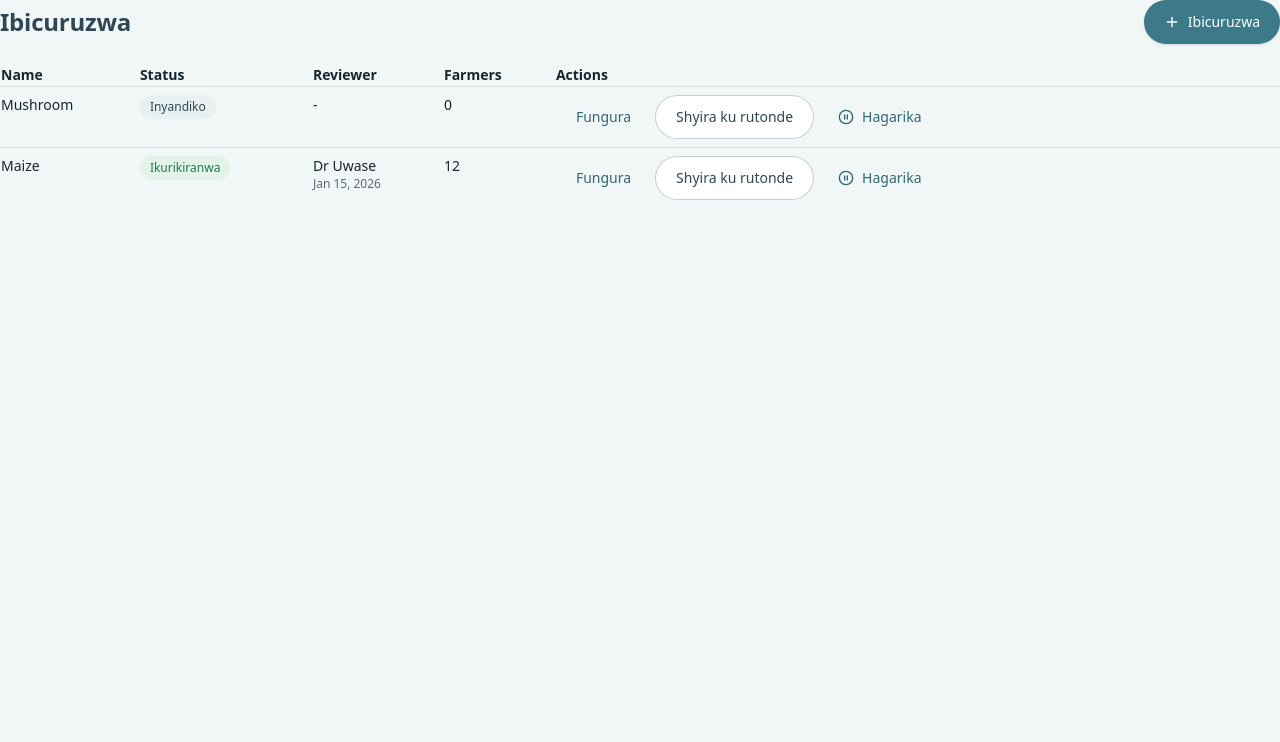
Scenario: product editor › offers every field the trackable check asks for
Expected: the column heading "Mushroom" is shown, [0, 86, 139, 148]
Click the button "Fungura" in the row of "Mushroom": (604, 117) [556, 95, 651, 139]
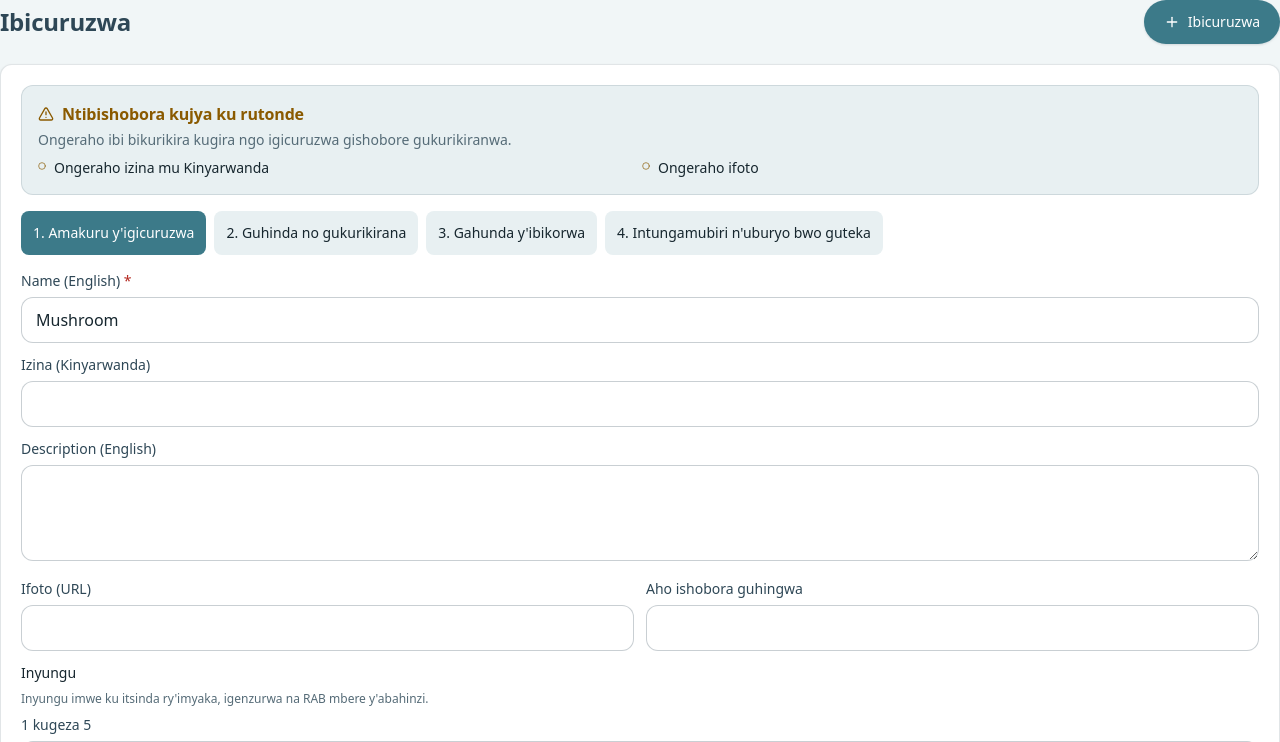
# Nutrition and recipes live on their own step.
Click the button "4. Intungamubiri n'uburyo bwo guteka": (744, 233) [605, 211, 883, 255]
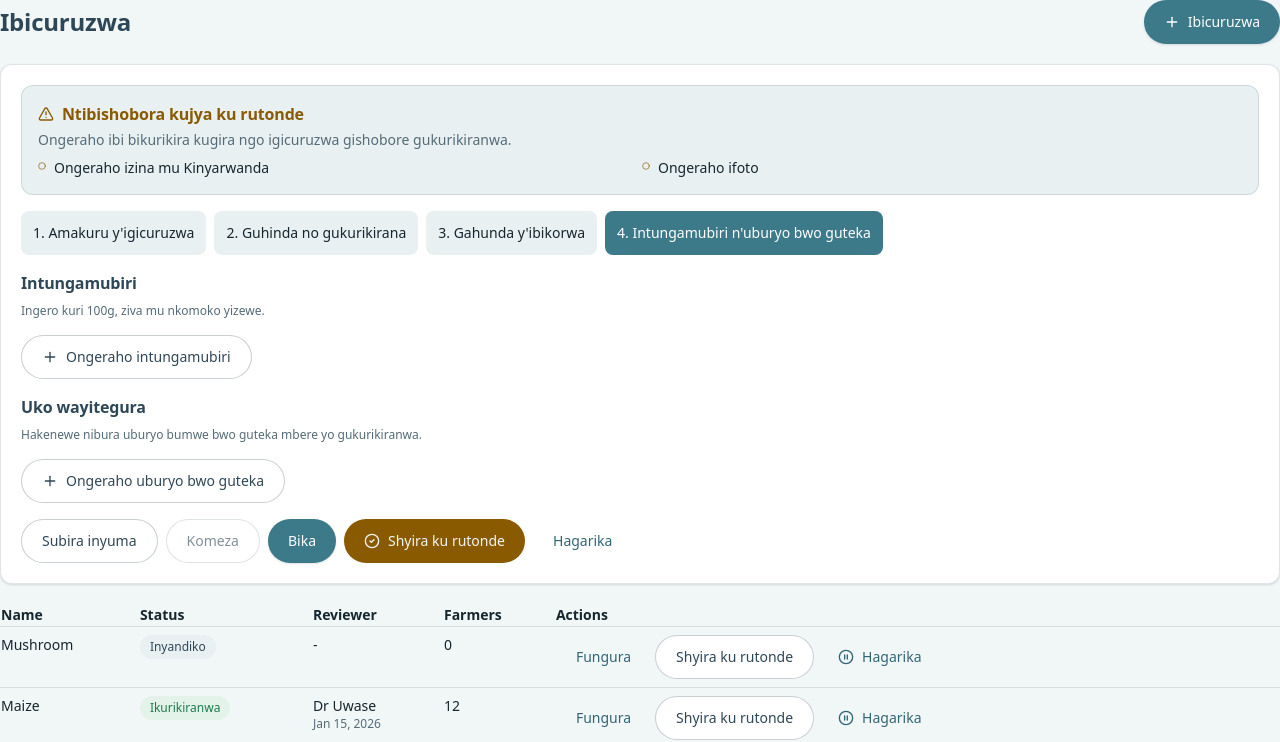
Now the heading "Intungamubiri" is shown, box [21, 272, 137, 294]
Now the heading "Uko wayitegura" is shown, box [21, 396, 146, 418]
